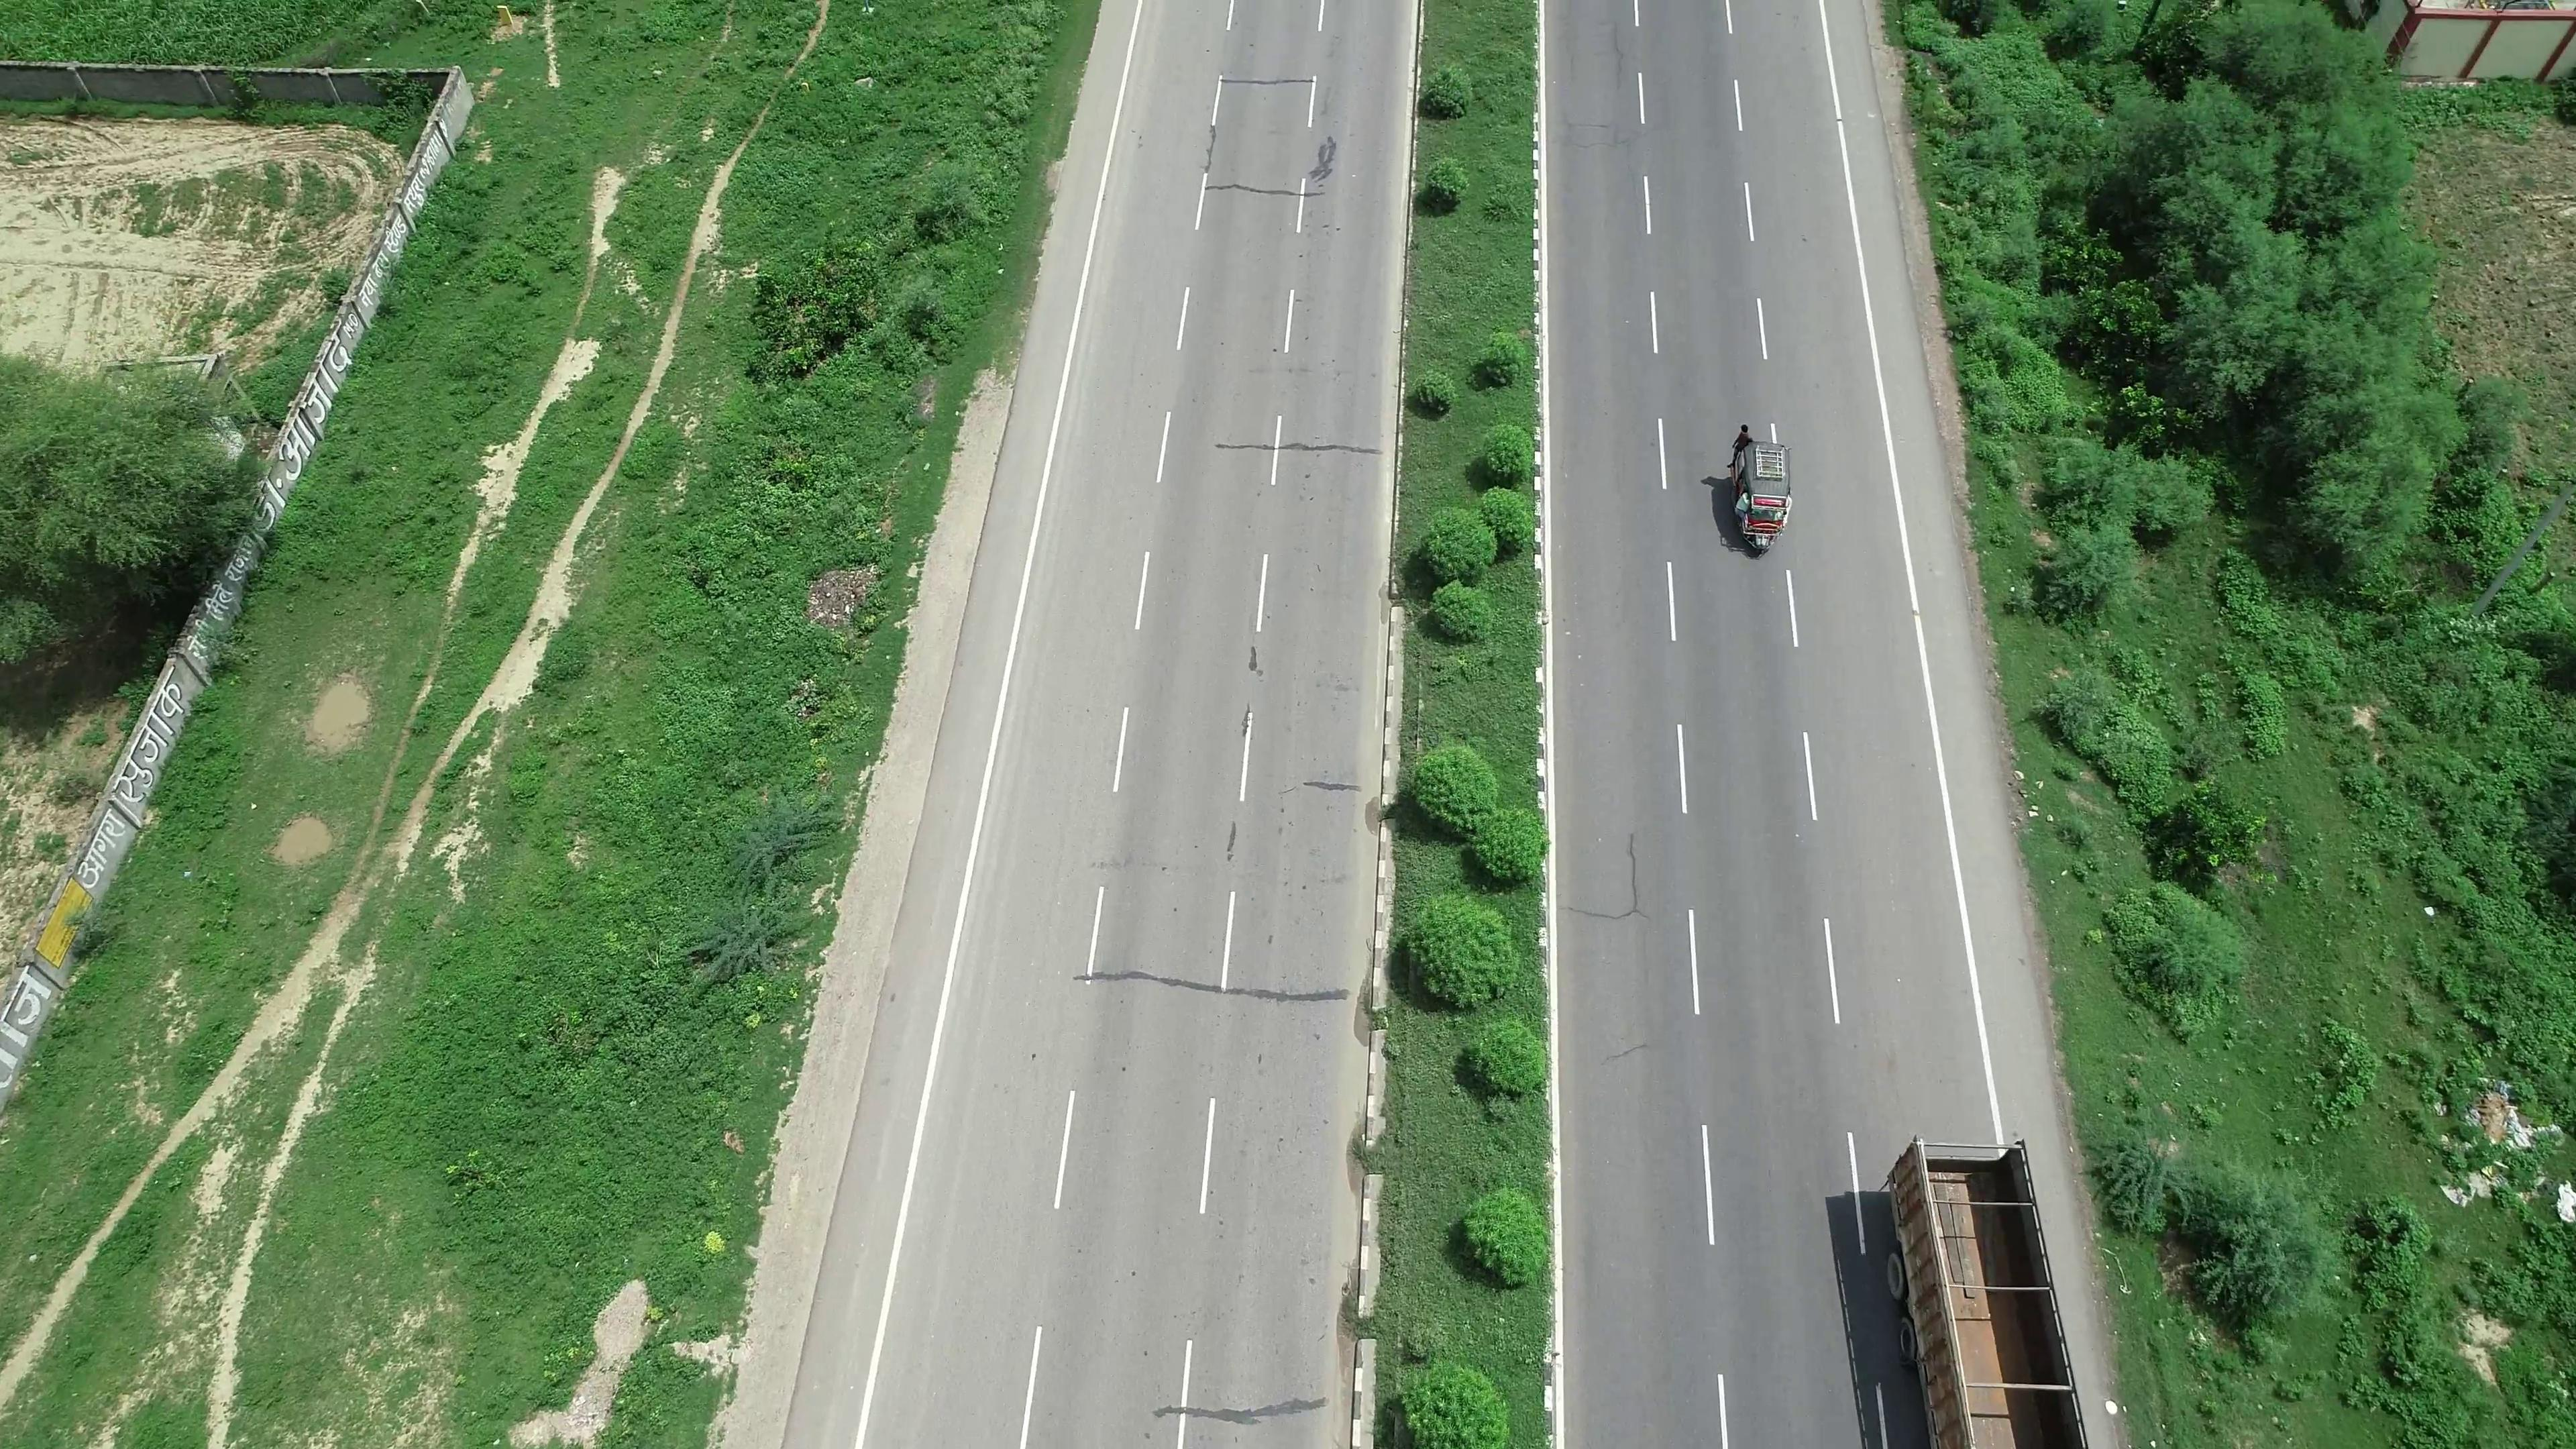Longitudinal_cracks: (1585, 823, 1652, 920)
